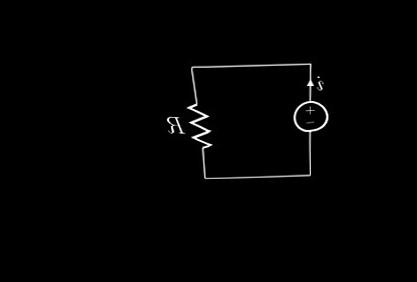Battery: (281, 93, 332, 138)
